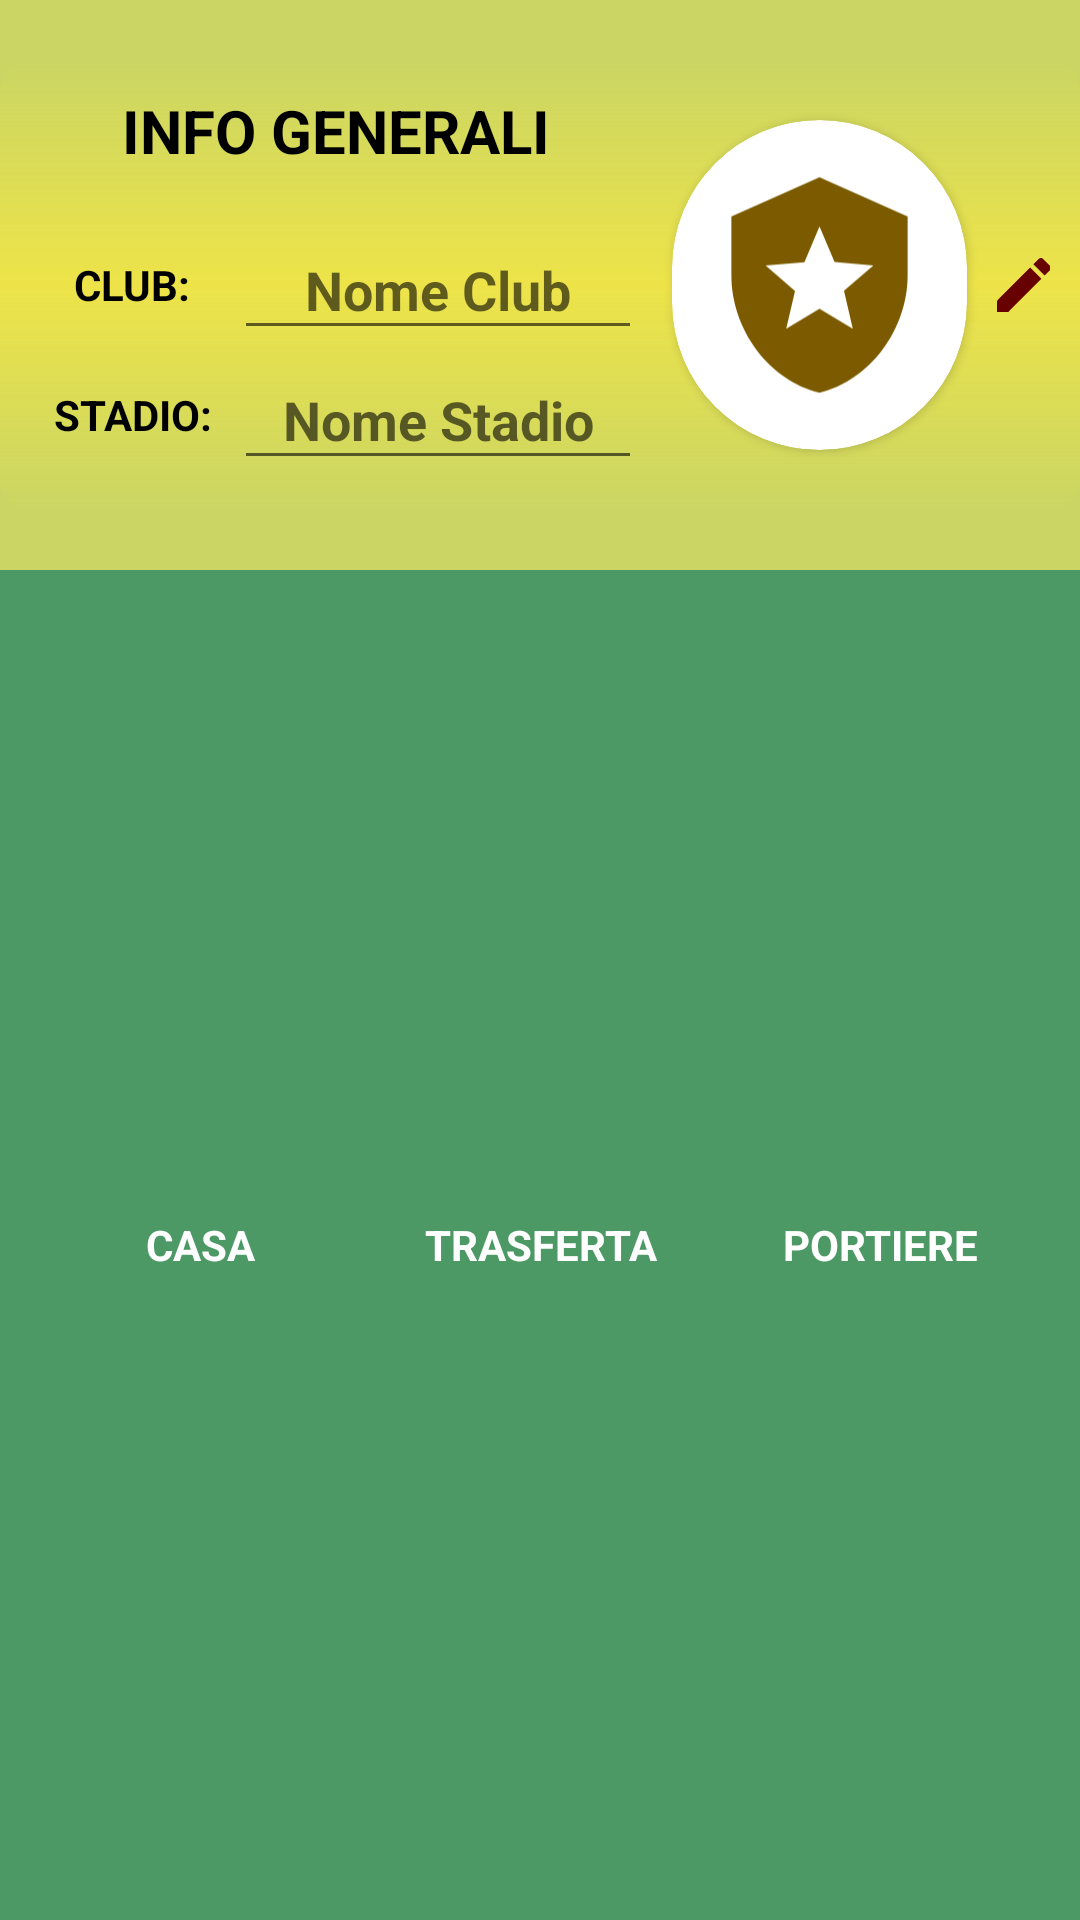

Point at icon controls on the screen. Image size 1080 x 1920, points as (x,y).
local police: (819,285)
mode edit: (1023,285)
